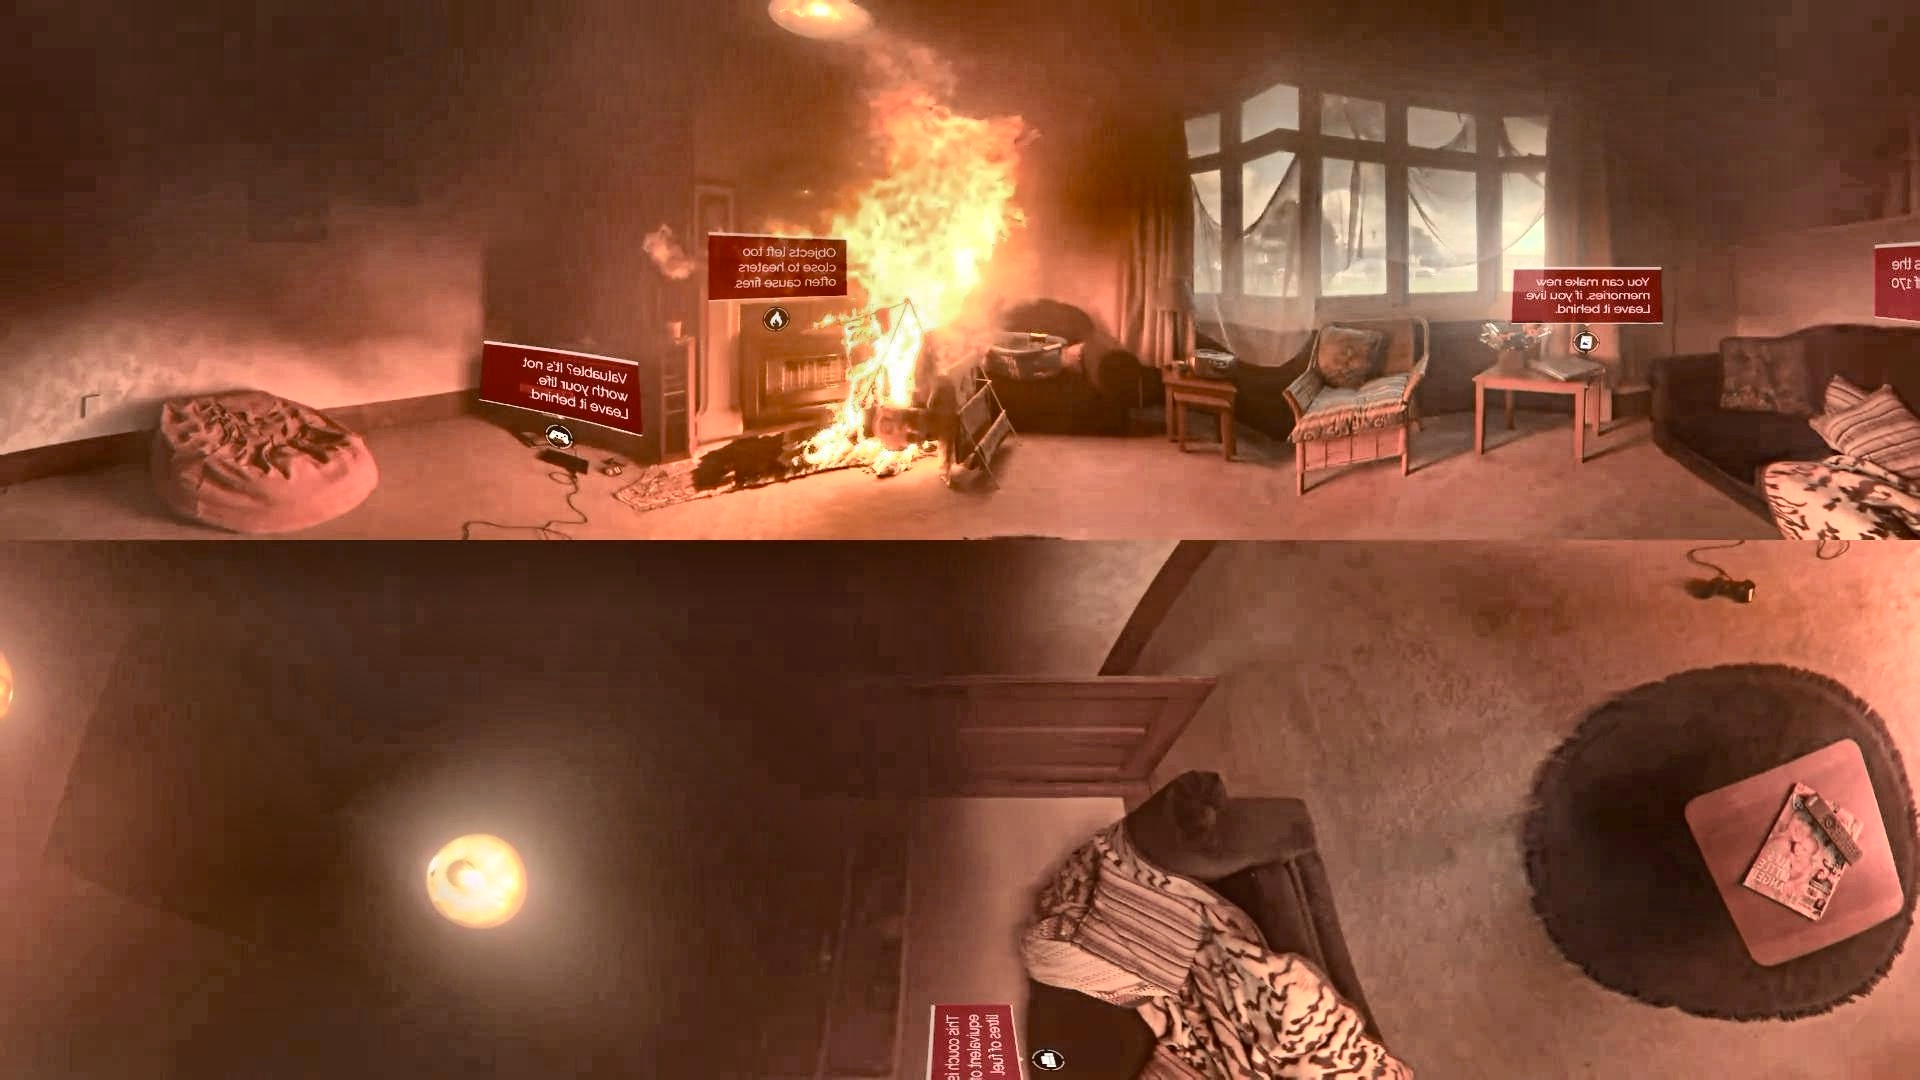fire: (816, 71, 1030, 402)
